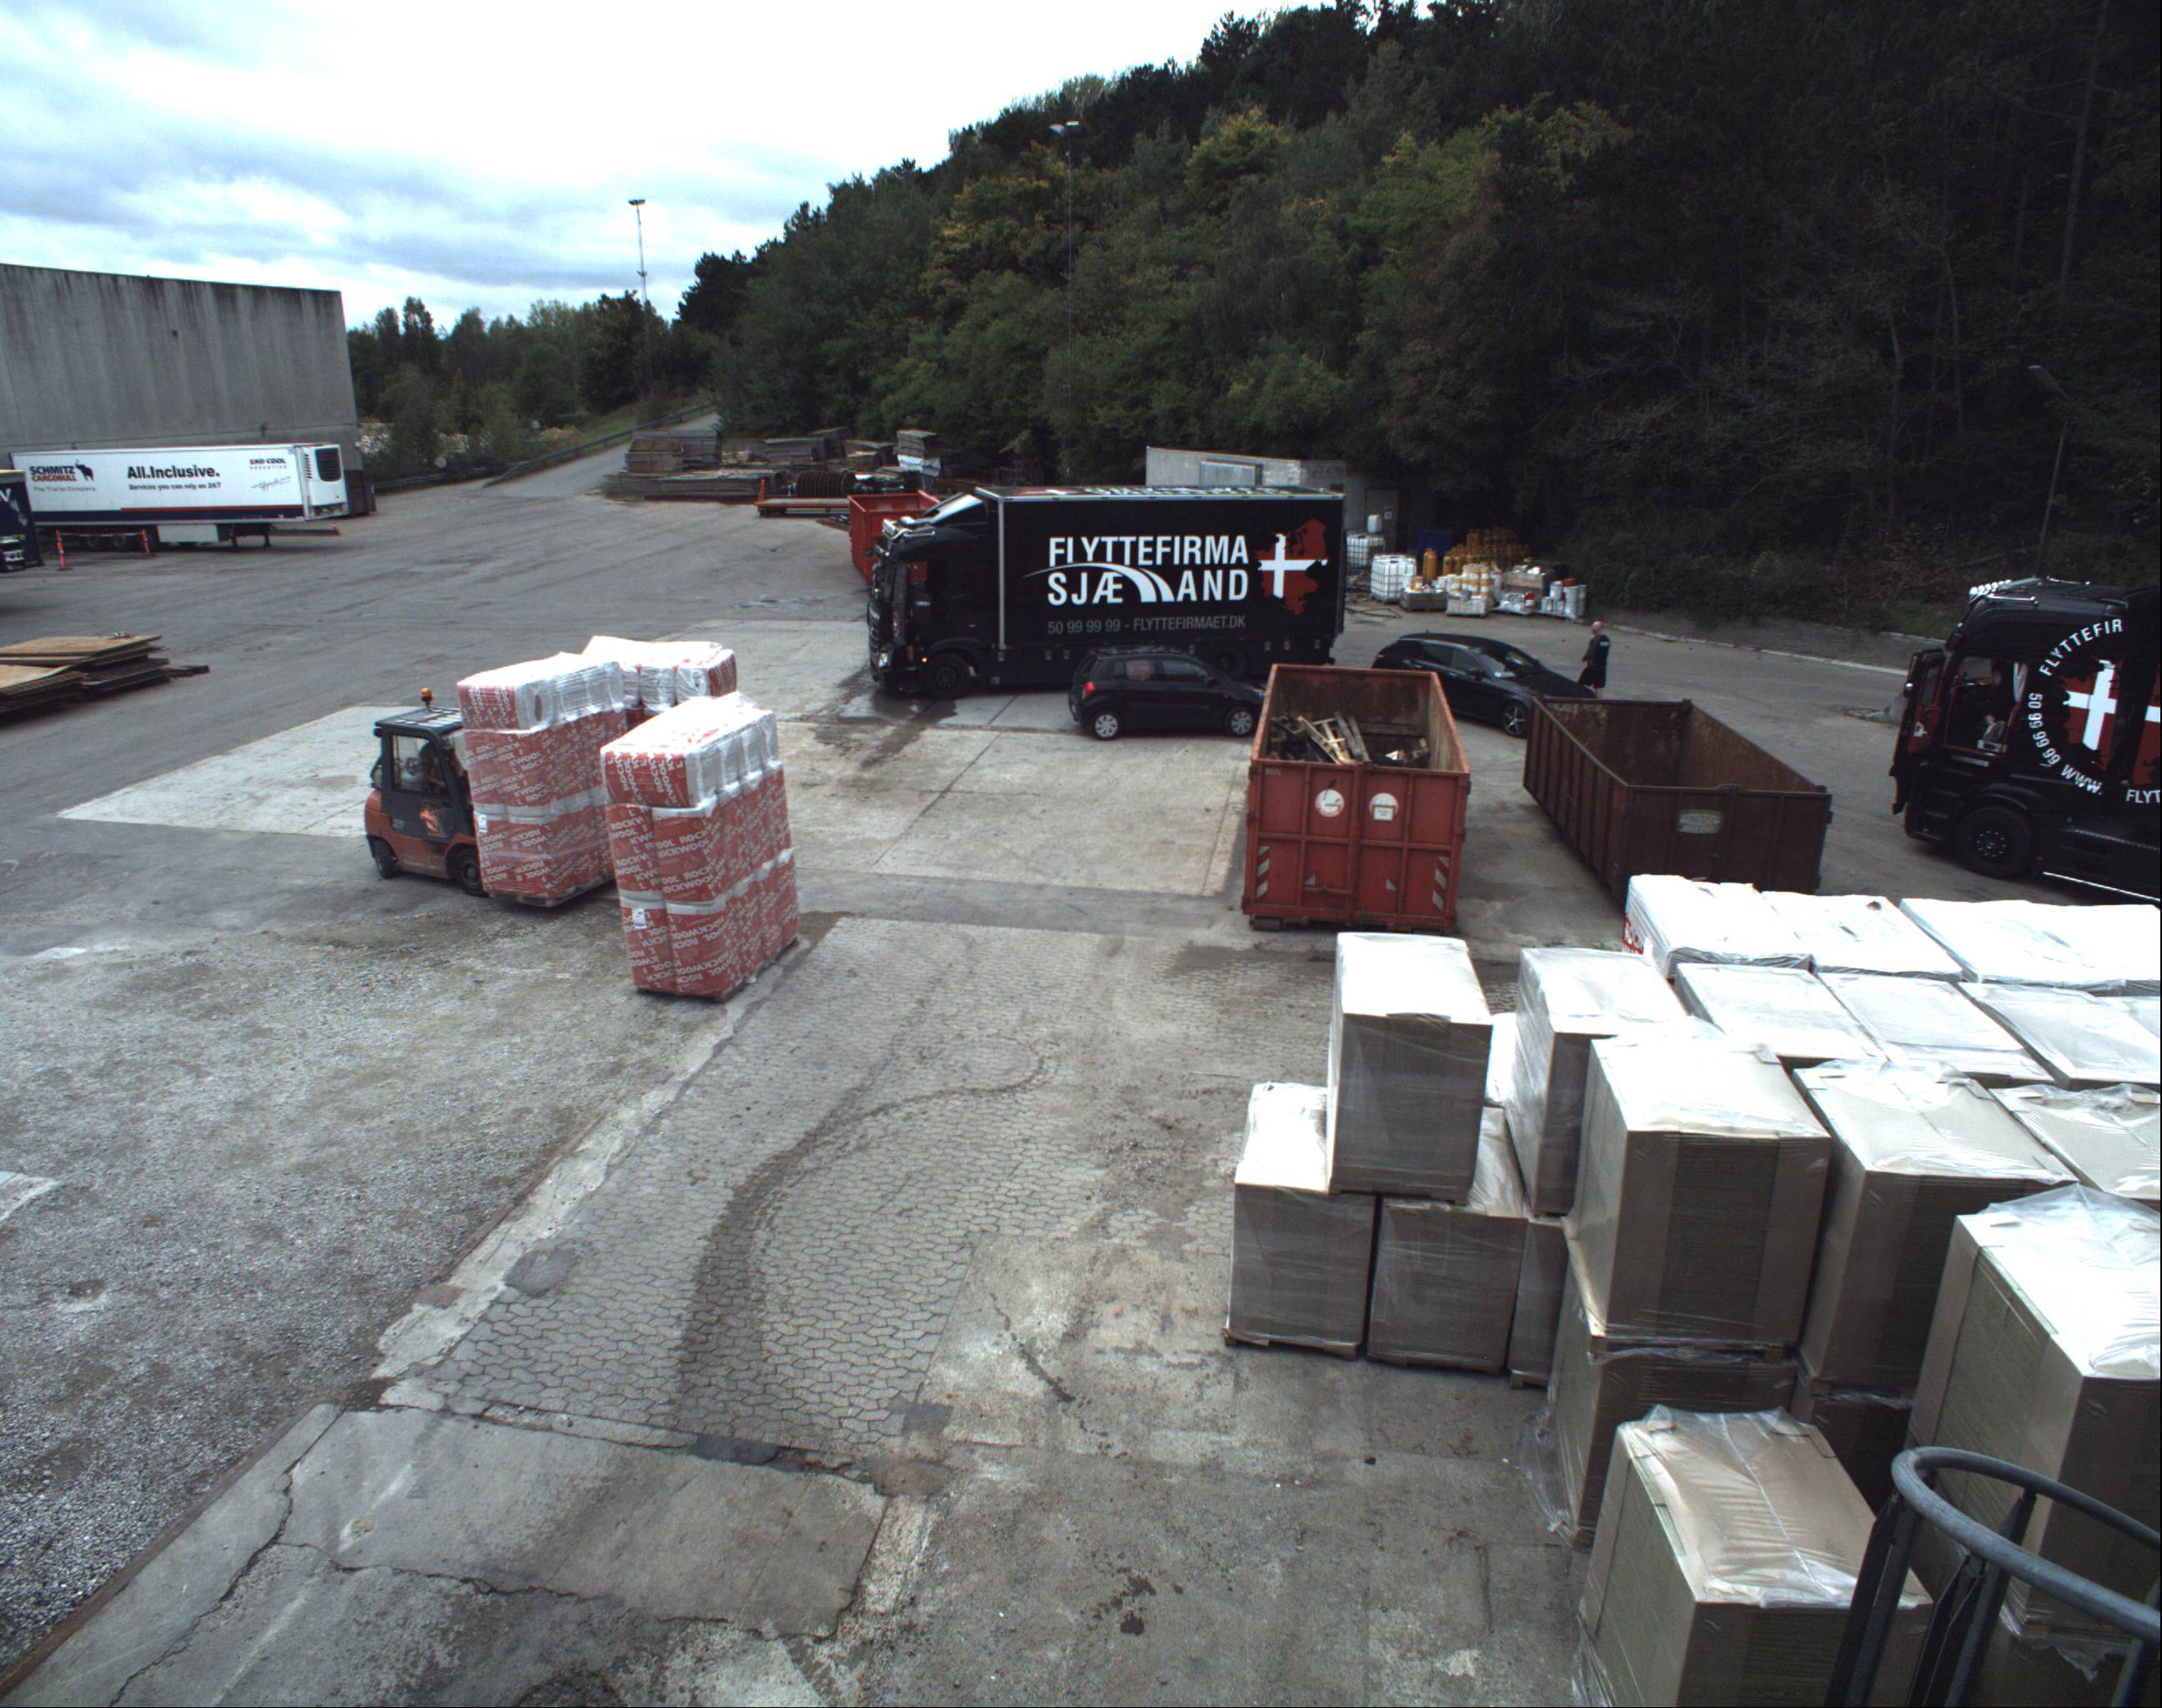rockwool_batts: (607, 695, 793, 990), (440, 653, 635, 892), (598, 614, 725, 704)
